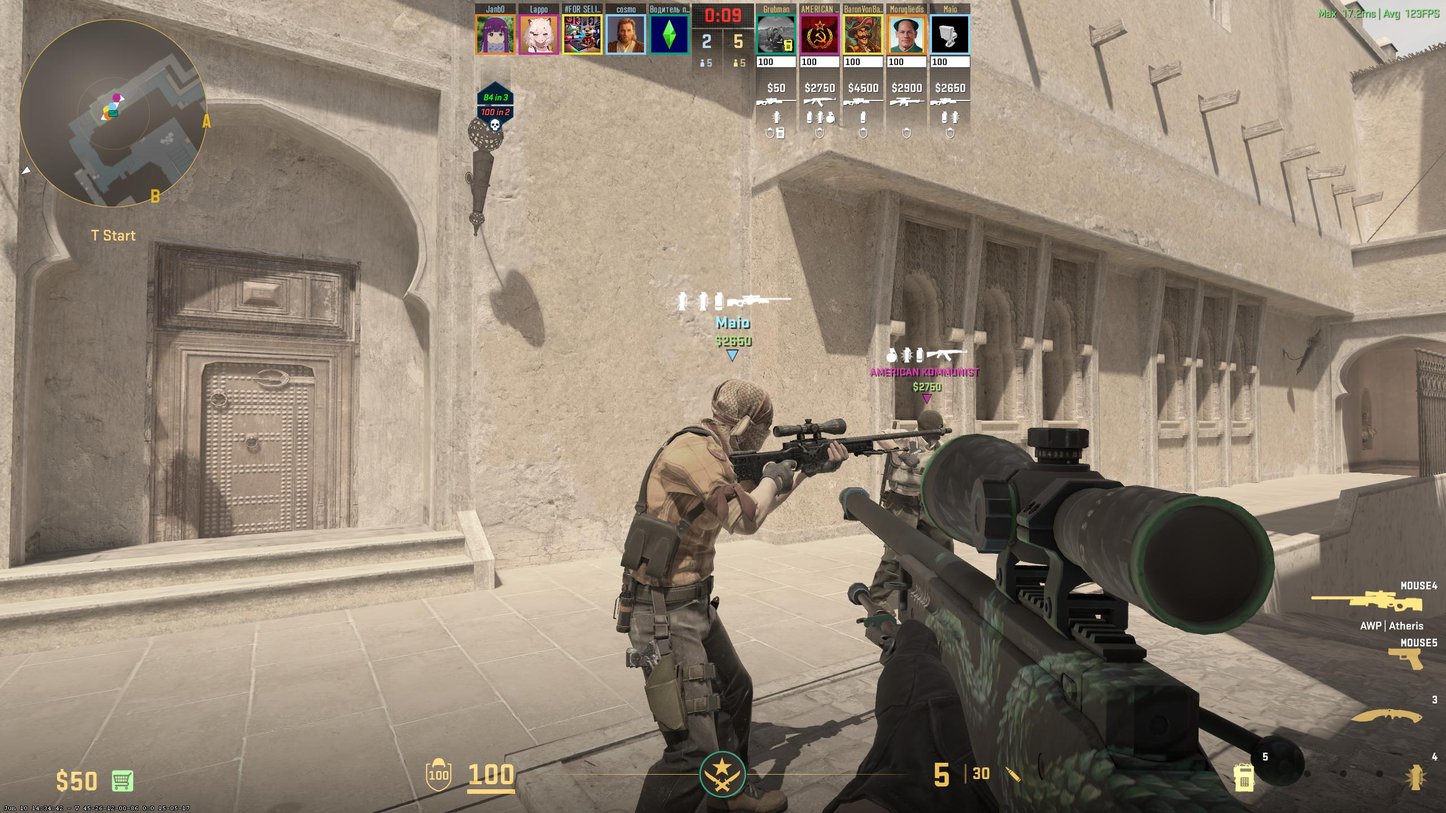Terrorist: (626, 392, 818, 811), (867, 427, 962, 648)
